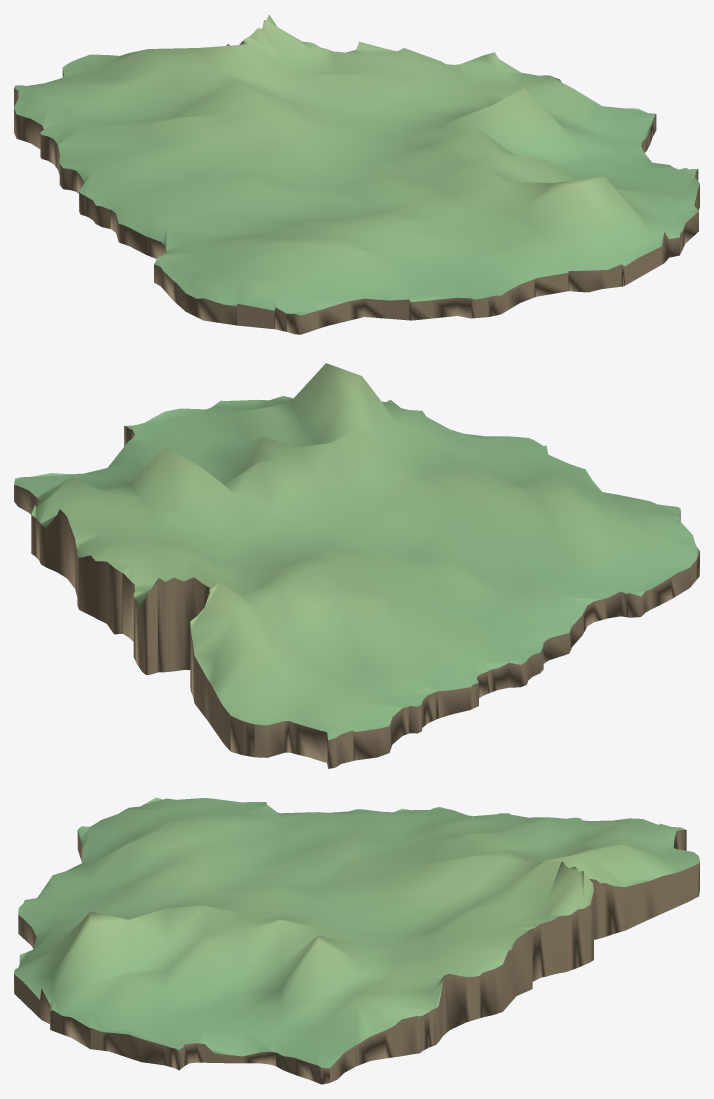
File: URY.glb
The picture shows the model from 3 angles, top to bottom: view 1: azimuth 30°, elevation 25°; view 2: azimuth 150°, elevation 25°; view 3: azimuth 270°, elevation 25°; orthographic projection. The views are drawn at different scales.
Parts seen in each view (by area): view 1: URY; view 2: URY; view 3: URY.
Boxes of the visible parts, <box> form: URY: <box>14,14,699,334</box>; URY: <box>14,363,699,768</box>; URY: <box>14,797,699,1084</box>.
Size of the model in its own units: 1.49 by 0.2234 by 1.62.
